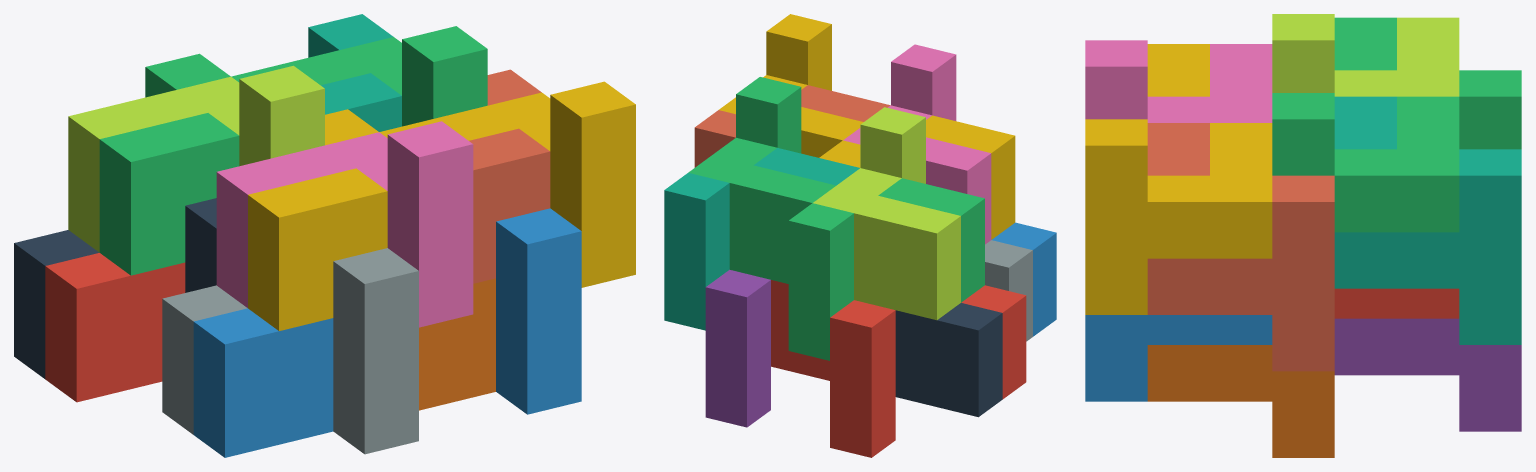
Rendered from tiling.obj.
3 renders of one model, left to right at view 1: azimuth 30°, elevation 25°; view 2: azimuth 150°, elevation 25°; view 3: azimuth 270°, elevation 25°, orthographic. The views are drawn at different scales.
Visible parts, largest first — view 1: copy_2_domain_4, copy_2_domain_2, copy_2_domain_8, copy_1_domain_3, copy_1_domain_2, copy_1_domain_4, copy_2_domain_6, copy_2_domain_3, copy_1_domain_1, copy_2_domain_7, copy_1_domain_8, copy_2_domain_1 (+2 smaller); view 2: copy_2_domain_3, copy_2_domain_7, copy_1_domain_1, copy_1_domain_3, copy_1_domain_7, copy_2_domain_1, copy_1_domain_5, copy_2_domain_4, copy_2_domain_8, copy_1_domain_4, copy_1_domain_8, copy_1_domain_2 (+2 smaller); view 3: copy_2_domain_8, copy_1_domain_8, copy_1_domain_7, copy_2_domain_7, copy_1_domain_5, copy_1_domain_6, copy_2_domain_3, copy_2_domain_4, copy_2_domain_6, copy_1_domain_3, copy_2_domain_5, copy_1_domain_4.
Boxes of the visible parts, <box> form: copy_2_domain_4: <box>216,121,473,327</box>; copy_2_domain_2: <box>162,248,418,454</box>; copy_2_domain_8: <box>379,81,635,287</box>; copy_1_domain_3: <box>99,53,239,275</box>; copy_1_domain_2: <box>193,308,333,457</box>; copy_1_domain_4: <box>248,109,387,330</box>; copy_2_domain_6: <box>496,208,581,414</box>; copy_2_domain_3: <box>68,65,324,252</box>; copy_1_domain_1: <box>45,253,185,402</box>; copy_2_domain_7: <box>231,26,487,126</box>; copy_1_domain_8: <box>469,69,550,283</box>; copy_2_domain_1: <box>14,198,216,378</box>; copy_2_domain_3: <box>813,107,960,320</box>; copy_2_domain_7: <box>688,77,836,283</box>; copy_1_domain_1: <box>830,285,1026,457</box>; copy_1_domain_3: <box>788,178,984,360</box>; copy_1_domain_7: <box>664,148,859,330</box>; copy_2_domain_1: <box>895,303,1002,417</box>; copy_1_domain_5: <box>705,269,770,427</box>; copy_2_domain_4: <box>843,44,991,244</box>; copy_2_domain_8: <box>719,14,863,157</box>; copy_1_domain_4: <box>819,115,1015,239</box>; copy_1_domain_8: <box>694,85,890,167</box>; copy_1_domain_2: <box>992,222,1056,336</box>; copy_2_domain_8: <box>1085,119,1272,314</box>; copy_1_domain_8: <box>1147,123,1334,371</box>; copy_1_domain_7: <box>1334,96,1521,344</box>; copy_2_domain_7: <box>1272,93,1459,232</box>; copy_1_domain_5: <box>1334,318,1521,431</box>; copy_1_domain_6: <box>1147,345,1334,457</box>; copy_2_domain_3: <box>1272,14,1459,96</box>; copy_2_domain_4: <box>1085,40,1272,122</box>; copy_2_domain_6: <box>1085,315,1272,401</box>; copy_1_domain_3: <box>1334,17,1521,149</box>; copy_2_domain_5: <box>1334,288,1459,318</box>; copy_1_domain_4: <box>1147,44,1209,96</box>.
Bounding box in the file's own units: 8 × 6 × 7.
